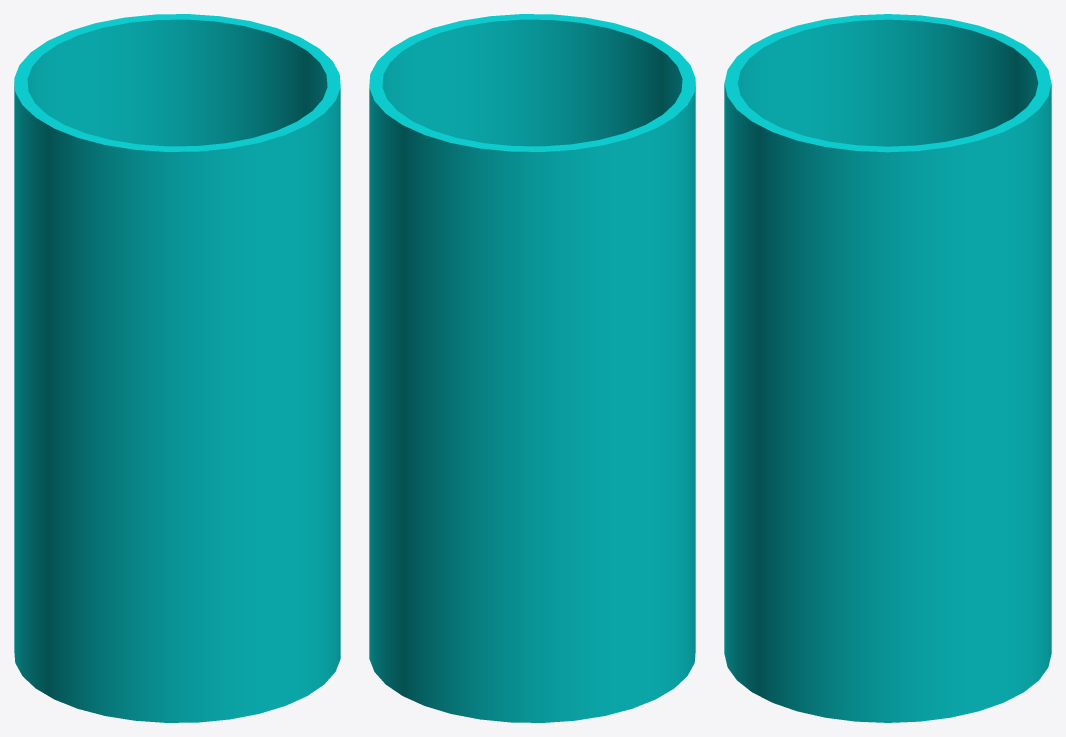
Rendered from Glass_Tube.fbx.
The picture shows the model from 3 angles, left to right: view 1: azimuth 30°, elevation 25°; view 2: azimuth 150°, elevation 25°; view 3: azimuth 270°, elevation 25°; orthographic projection.
Parts seen in each view (by area): view 1: Cylinder.025; view 2: Cylinder.025; view 3: Cylinder.025.
Boxes of the visible parts, x1,y1,x2,y2 form: Cylinder.025: (14, 14, 340, 722); Cylinder.025: (369, 14, 695, 722); Cylinder.025: (724, 14, 1051, 722).
Bounding box in the file's own units: 161 × 310 × 161.
